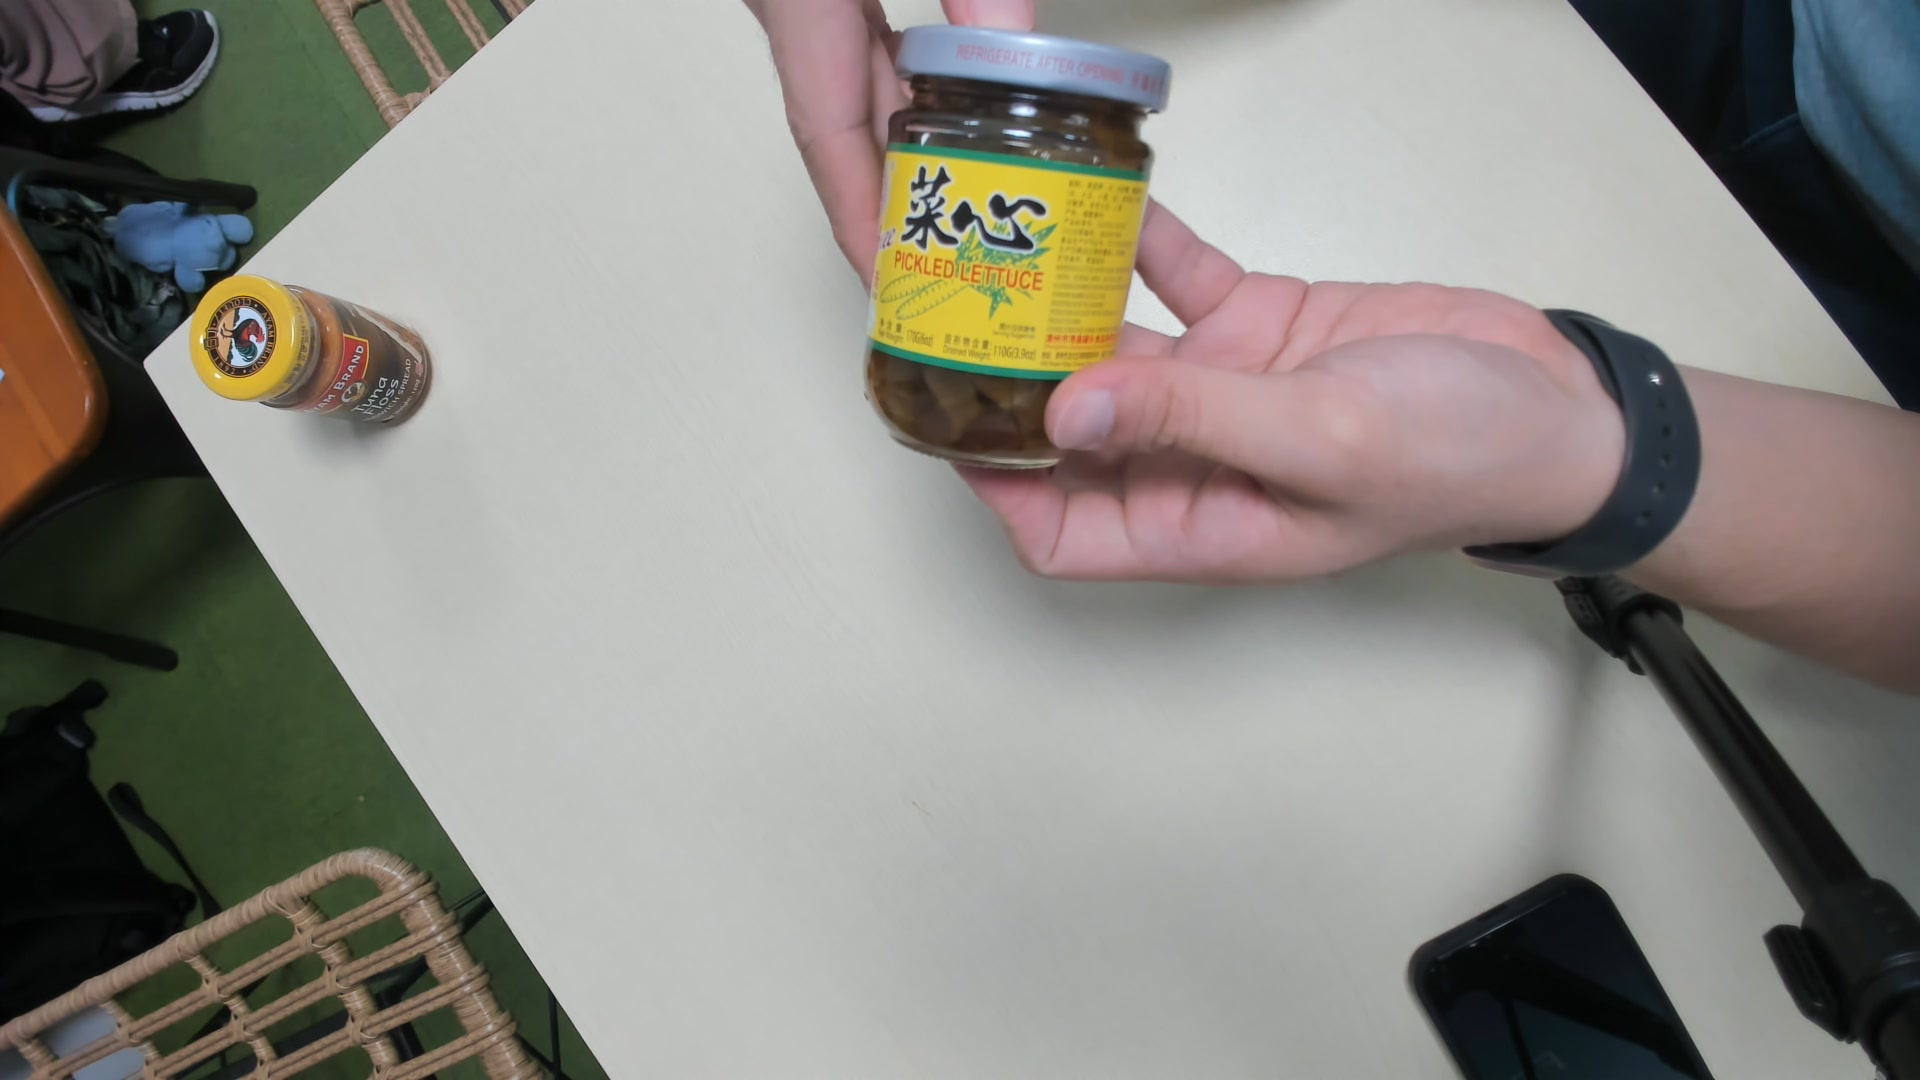OtherSauceDressing_200-299g_Halal_NonHealthy: (865, 24, 1174, 496)
